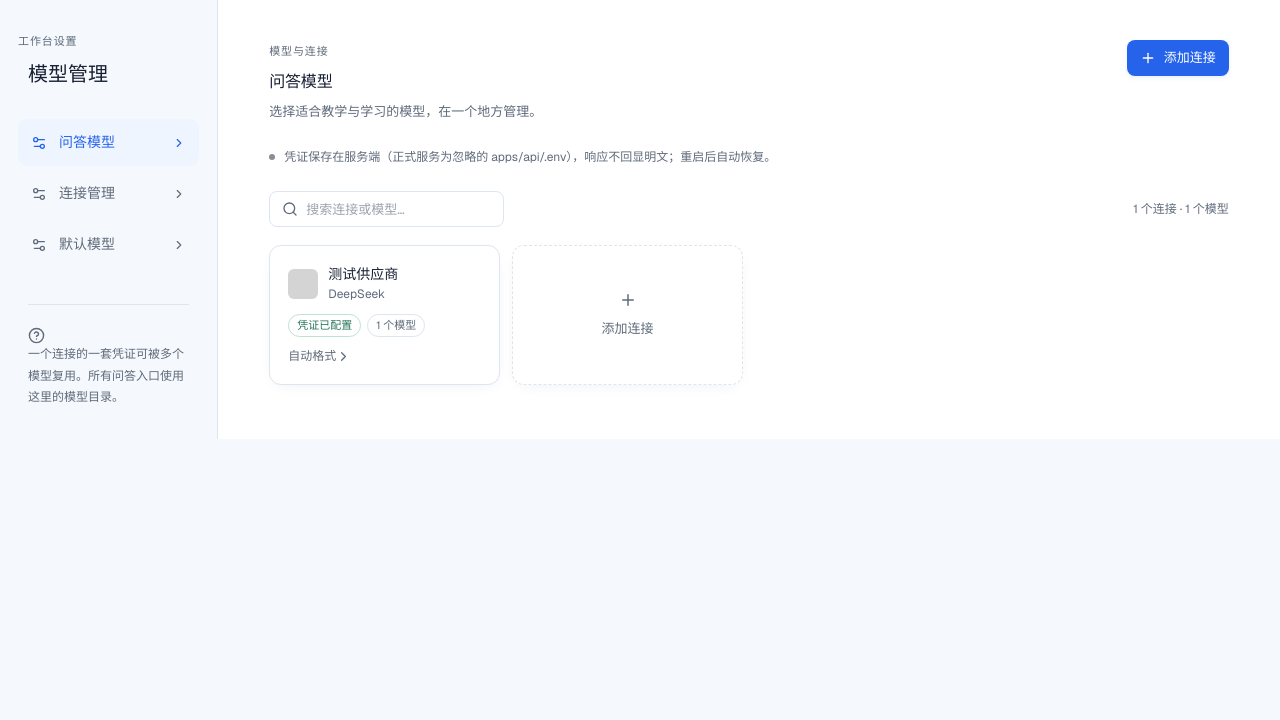
Test: 模型管理审查回归 › 导入失败保留勾选并在弹窗内显示错误（MR-13）
The width and height of the screenshot is (1280, 720).
Click the button with aria-label "打开 测试供应商 的详情": (385, 315) x1=269 y1=245 x2=500 y2=385
(page scrolled)
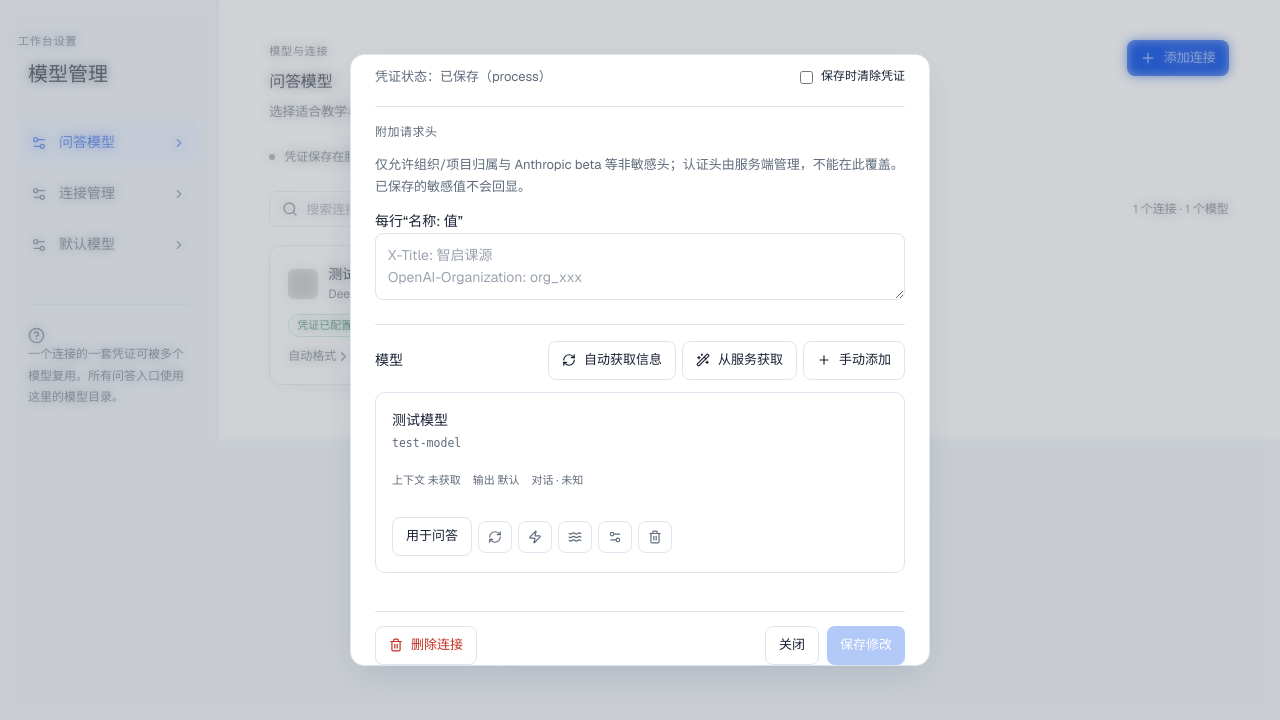
Click the button "从服务获取": (740, 360) x1=682 y1=341 x2=797 y2=380
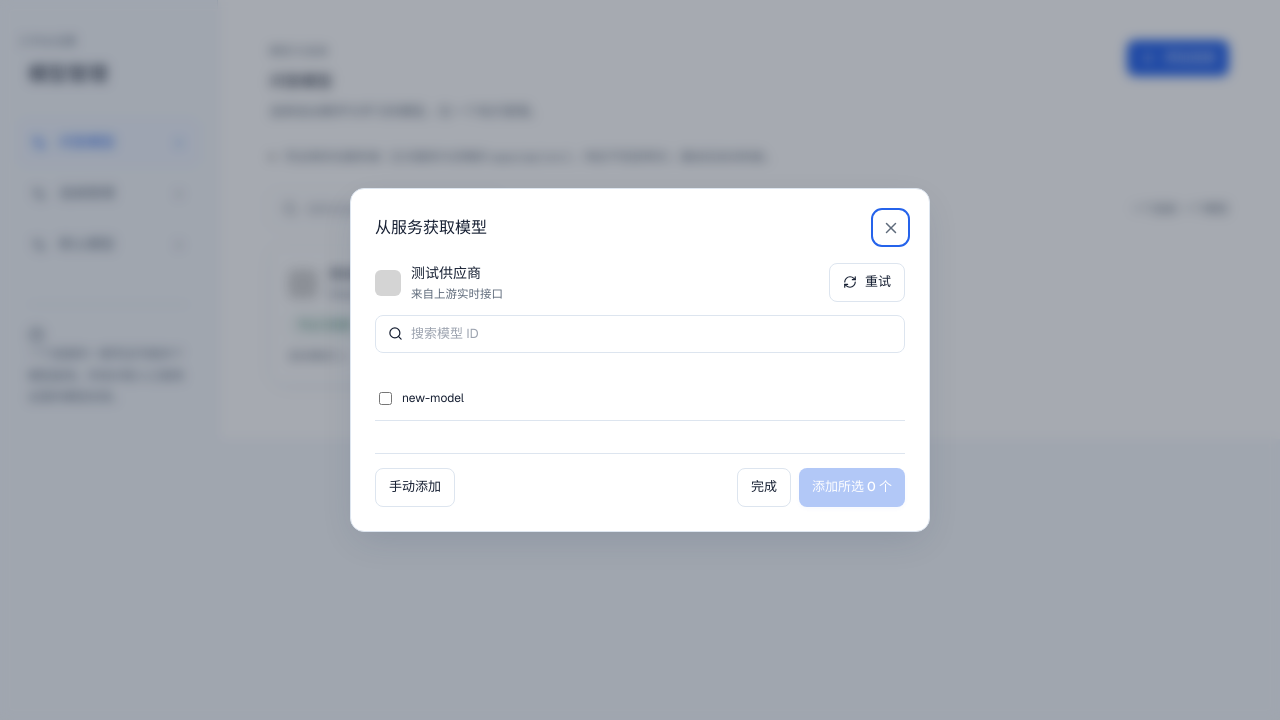
Click the checkbox labelled "new-model": (386, 398) x1=379 y1=392 x2=392 y2=405
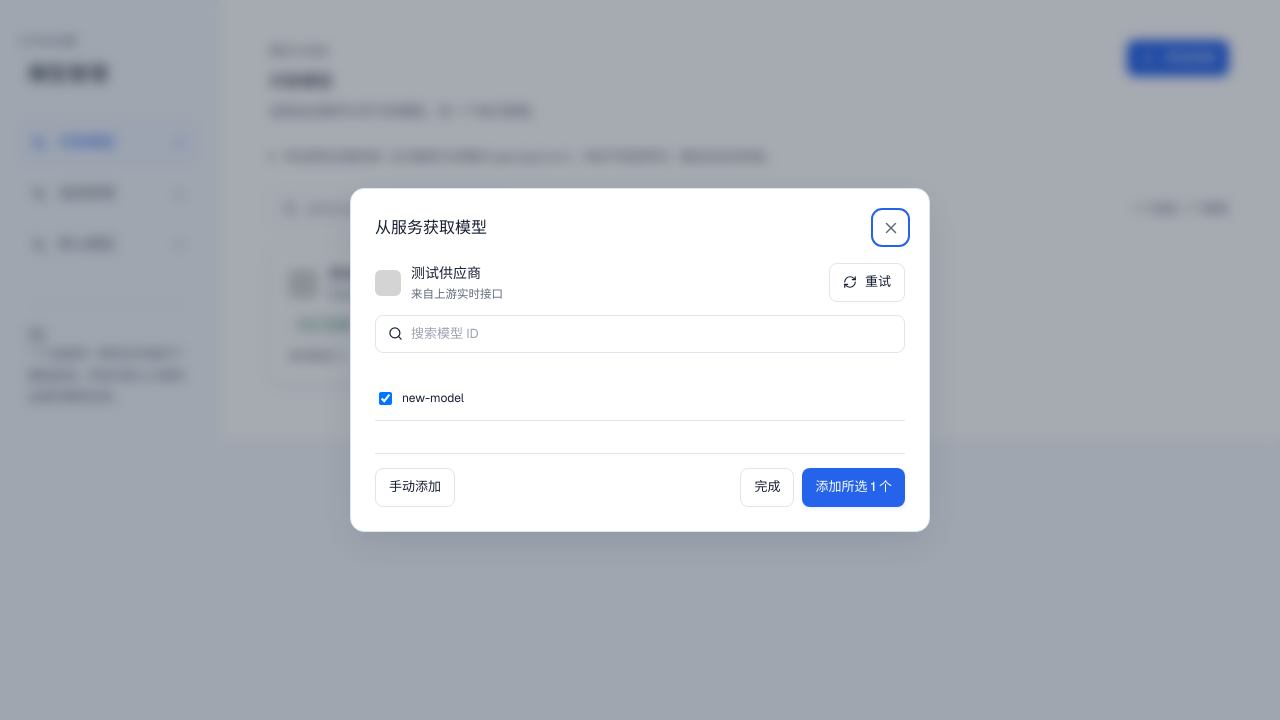
Click the button "添加所选 1 个": (854, 488) x1=802 y1=468 x2=905 y2=507
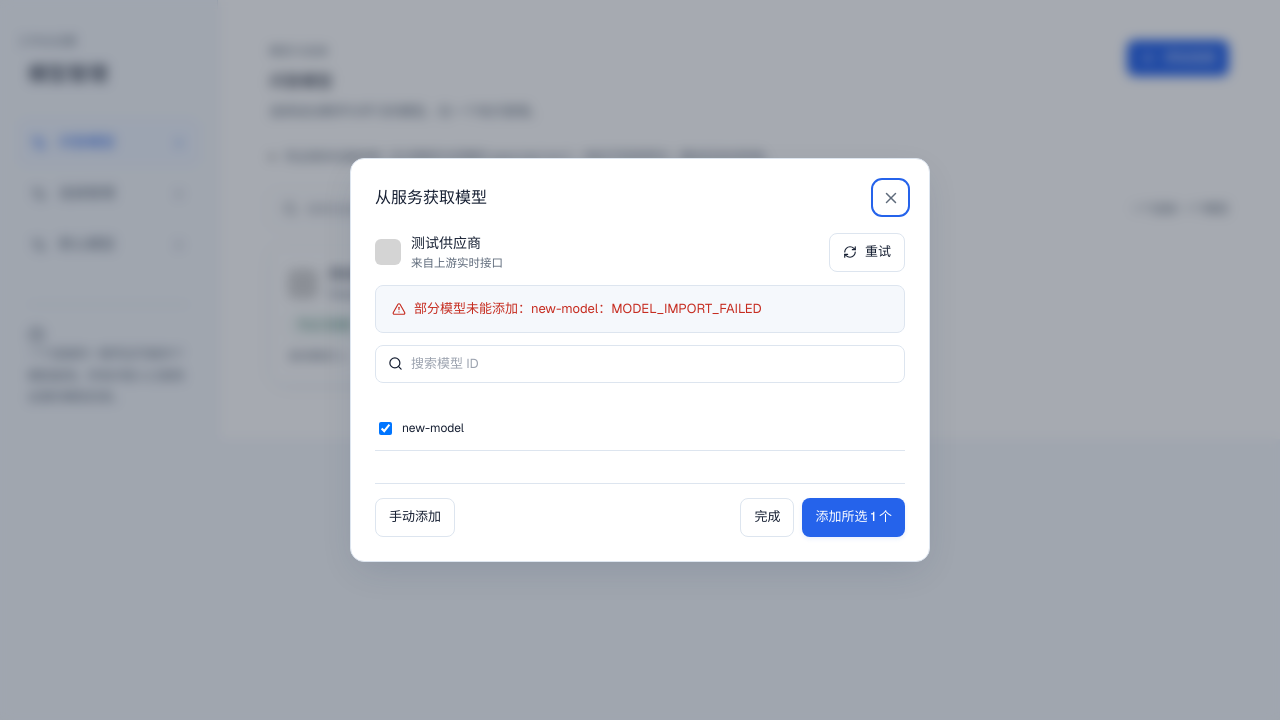
Expected: the checkbox labelled "new-model" is checked, x1=379 y1=422 x2=392 y2=435
Expected: the button "添加所选 1 个" is shown, x1=802 y1=498 x2=905 y2=537
Expected: the message shows "MODEL_IMPORT_FAILED", x1=414 y1=300 x2=762 y2=317
